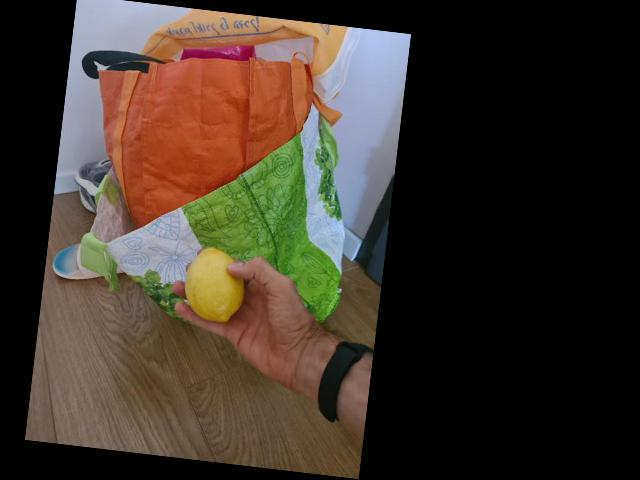lemon: (181, 244, 251, 326)
